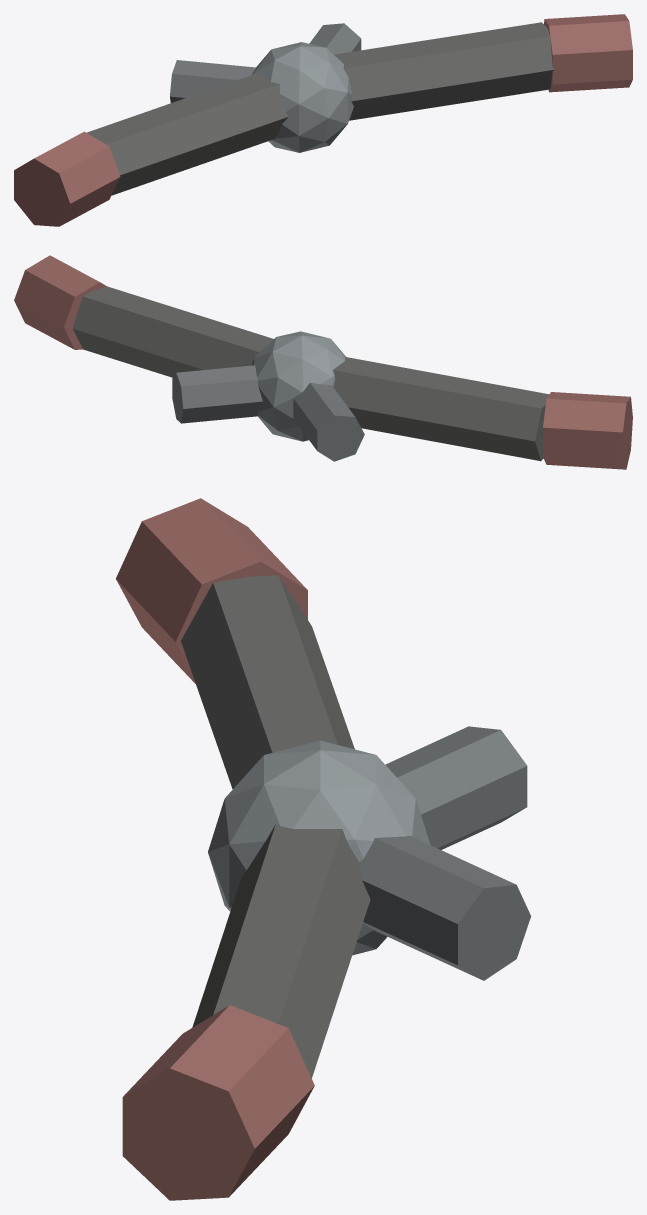
File: zange_werkzeug.glb
3 views of the same model, one above another, from view 1: azimuth 30°, elevation 25°; view 2: azimuth 150°, elevation 25°; view 3: azimuth 270°, elevation 25° (orthographic). The views are drawn at different scales.
Parts seen in each view (by area): view 1: zange_werkzeug_n1; view 2: zange_werkzeug_n1; view 3: zange_werkzeug_n1.
Boxes of the visible parts, box(x1,y1,x2,y2) form: zange_werkzeug_n1: box(14, 14, 632, 226); zange_werkzeug_n1: box(14, 255, 632, 469); zange_werkzeug_n1: box(116, 498, 531, 1200).
Bounding box in the file's own units: 0.1871 × 0.03 × 0.0554.
